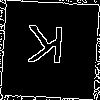K: (25, 25, 67, 73)
